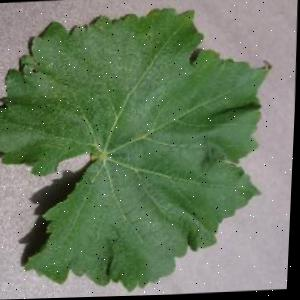Folha: (0, 3, 279, 297)
